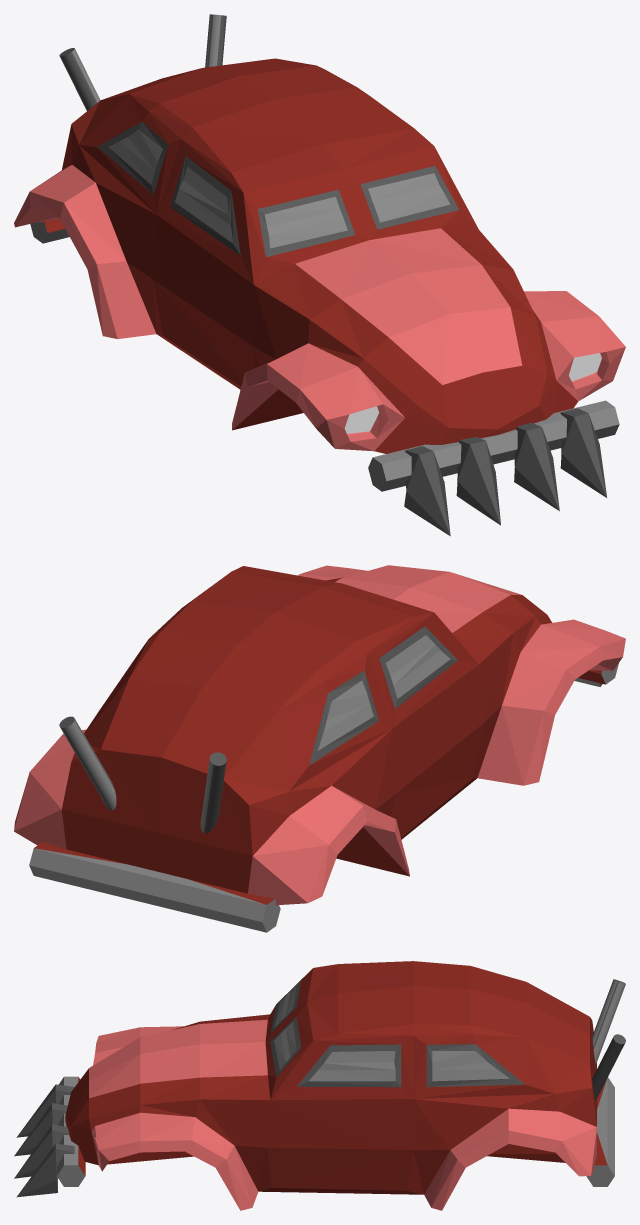
Rendered from vehicle enemy buggy.glb.
3 renders of one model, top to bottom at view 1: azimuth 30°, elevation 25°; view 2: azimuth 150°, elevation 25°; view 3: azimuth 270°, elevation 25°, orthographic. The views are drawn at different scales.
Parts seen in each view (by area): view 1: buggy; view 2: buggy; view 3: buggy.
Part boxes in pixels (x1,y1,x2,y2): buggy: [14, 14, 625, 536]; buggy: [14, 565, 625, 932]; buggy: [14, 961, 625, 1210].
Bounding box in the file's own units: 2.27 × 1.64 × 5.02.
